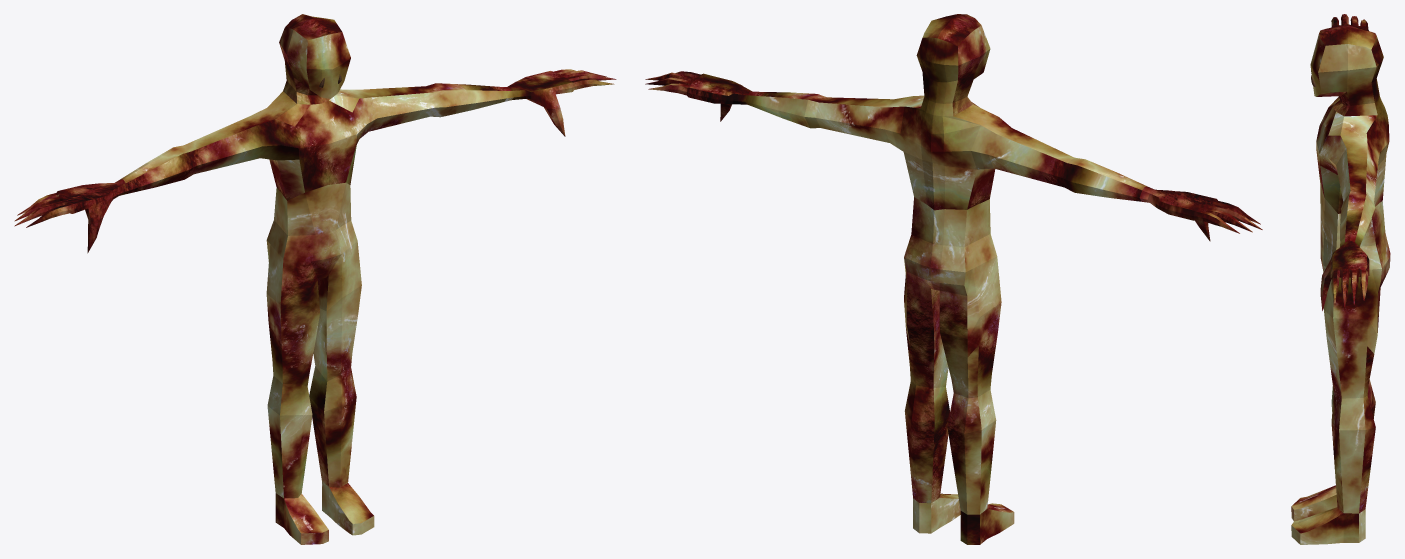
File: Zombie Model.fbx
The picture shows the model from 3 angles, left to right: view 1: azimuth 30°, elevation 25°; view 2: azimuth 150°, elevation 25°; view 3: azimuth 270°, elevation 25°; orthographic projection. The views are drawn at different scales.
Parts seen in each view (by area): view 1: Cube; view 2: Cube; view 3: Cube.
Boxes of the visible parts, x1,y1,x2,y2 form: Cube: (14,14,616,544); Cube: (645,14,1262,544); Cube: (1291,14,1390,544).
Size of the model in its own units: 1439 by 1143 by 205.
2 materials, 2 textured.
